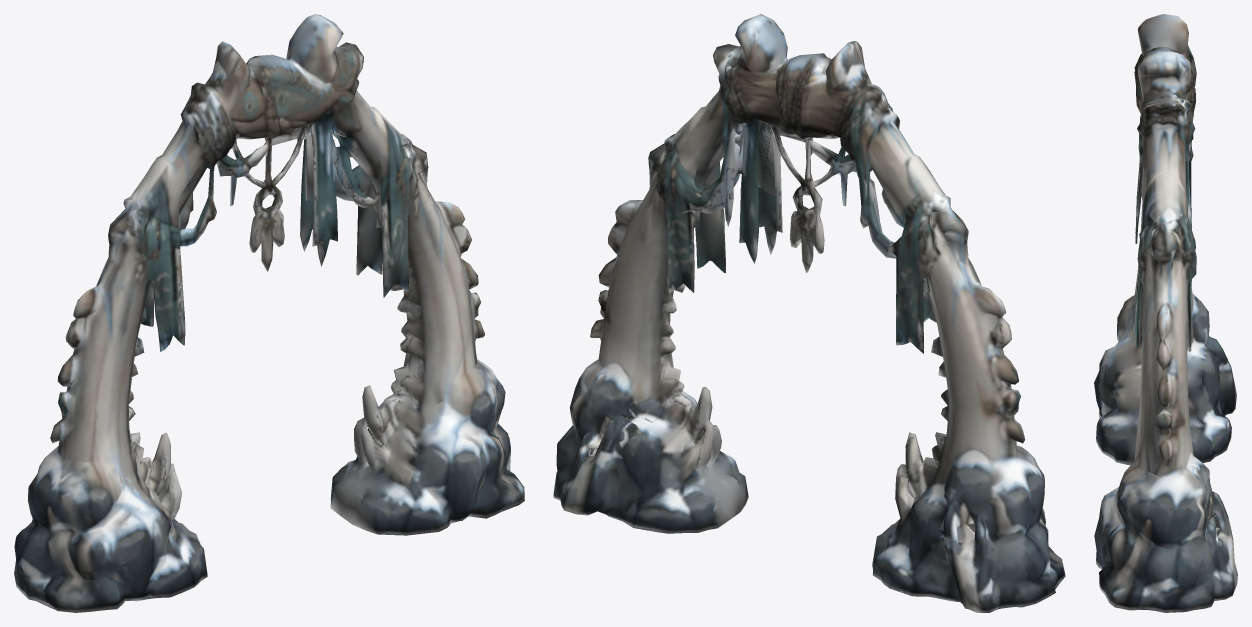
File: SM_Tripo_FrostSeaGateway.glb
3 views of the same model, side by side, from view 1: azimuth 30°, elevation 25°; view 2: azimuth 150°, elevation 25°; view 3: azimuth 270°, elevation 25° (orthographic). The views are drawn at different scales.
Visible parts, largest first — view 1: SM_Tripo_FrostSeaGateway_LOD0; view 2: SM_Tripo_FrostSeaGateway_LOD0; view 3: SM_Tripo_FrostSeaGateway_LOD0.
Part boxes in pixels (<box>): SM_Tripo_FrostSeaGateway_LOD0: <box>14,14,524,612</box>; SM_Tripo_FrostSeaGateway_LOD0: <box>553,14,1065,612</box>; SM_Tripo_FrostSeaGateway_LOD0: <box>1094,14,1237,612</box>.
Bounding box in the file's own units: 10.78 × 10.76 × 2.95.
1 material, 1 textured.
